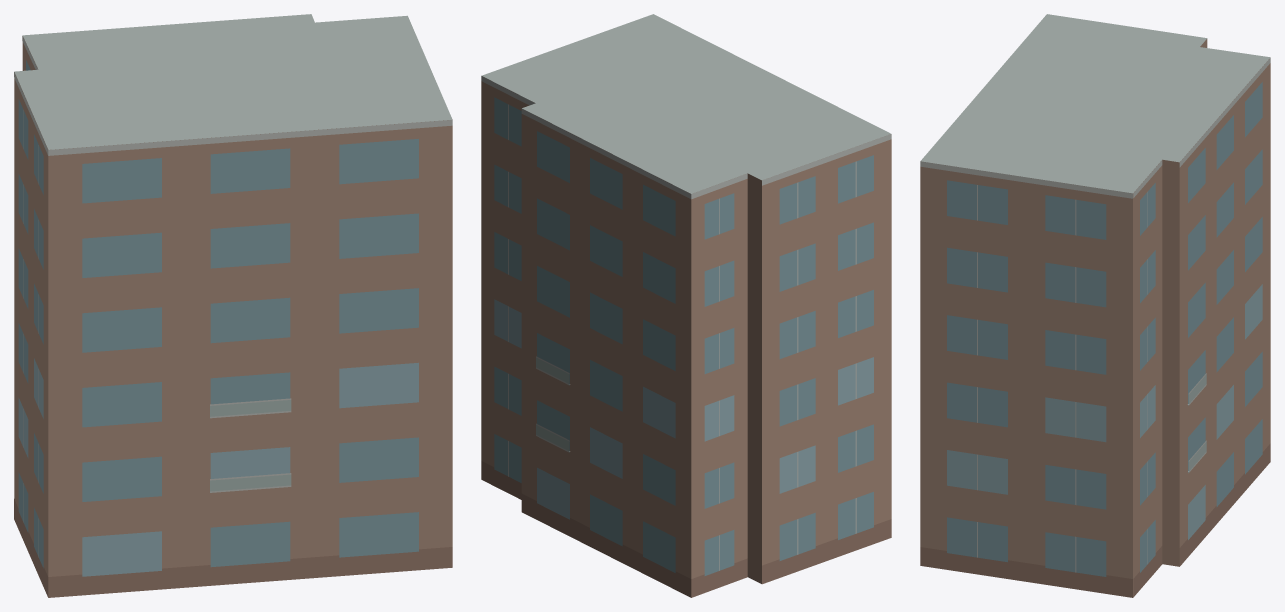
The model's file is survey-upis-32711180.glb.
The picture shows the model from 3 angles, left to right: view 1: azimuth 30°, elevation 25°; view 2: azimuth 150°, elevation 25°; view 3: azimuth 270°, elevation 25°; orthographic projection. The views are drawn at different scales.
Parts seen in each view (by area): view 1: survey-upis-32711180.tmp; view 2: survey-upis-32711180.tmp; view 3: survey-upis-32711180.tmp.
Boxes of the visible parts, x1,y1,x2,y2 form: survey-upis-32711180.tmp: (14,14,452,597); survey-upis-32711180.tmp: (481,14,891,597); survey-upis-32711180.tmp: (920,14,1270,597).
Bounding box in the file's own units: 17.42 × 18.3 × 14.38.
